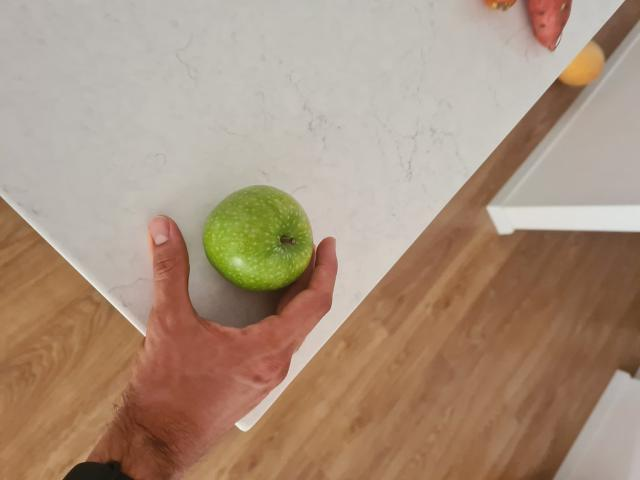apple: (202, 192, 312, 282)
